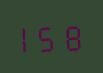eight: (63, 19, 84, 51)
five: (41, 20, 62, 52)
one: (18, 21, 39, 53)
